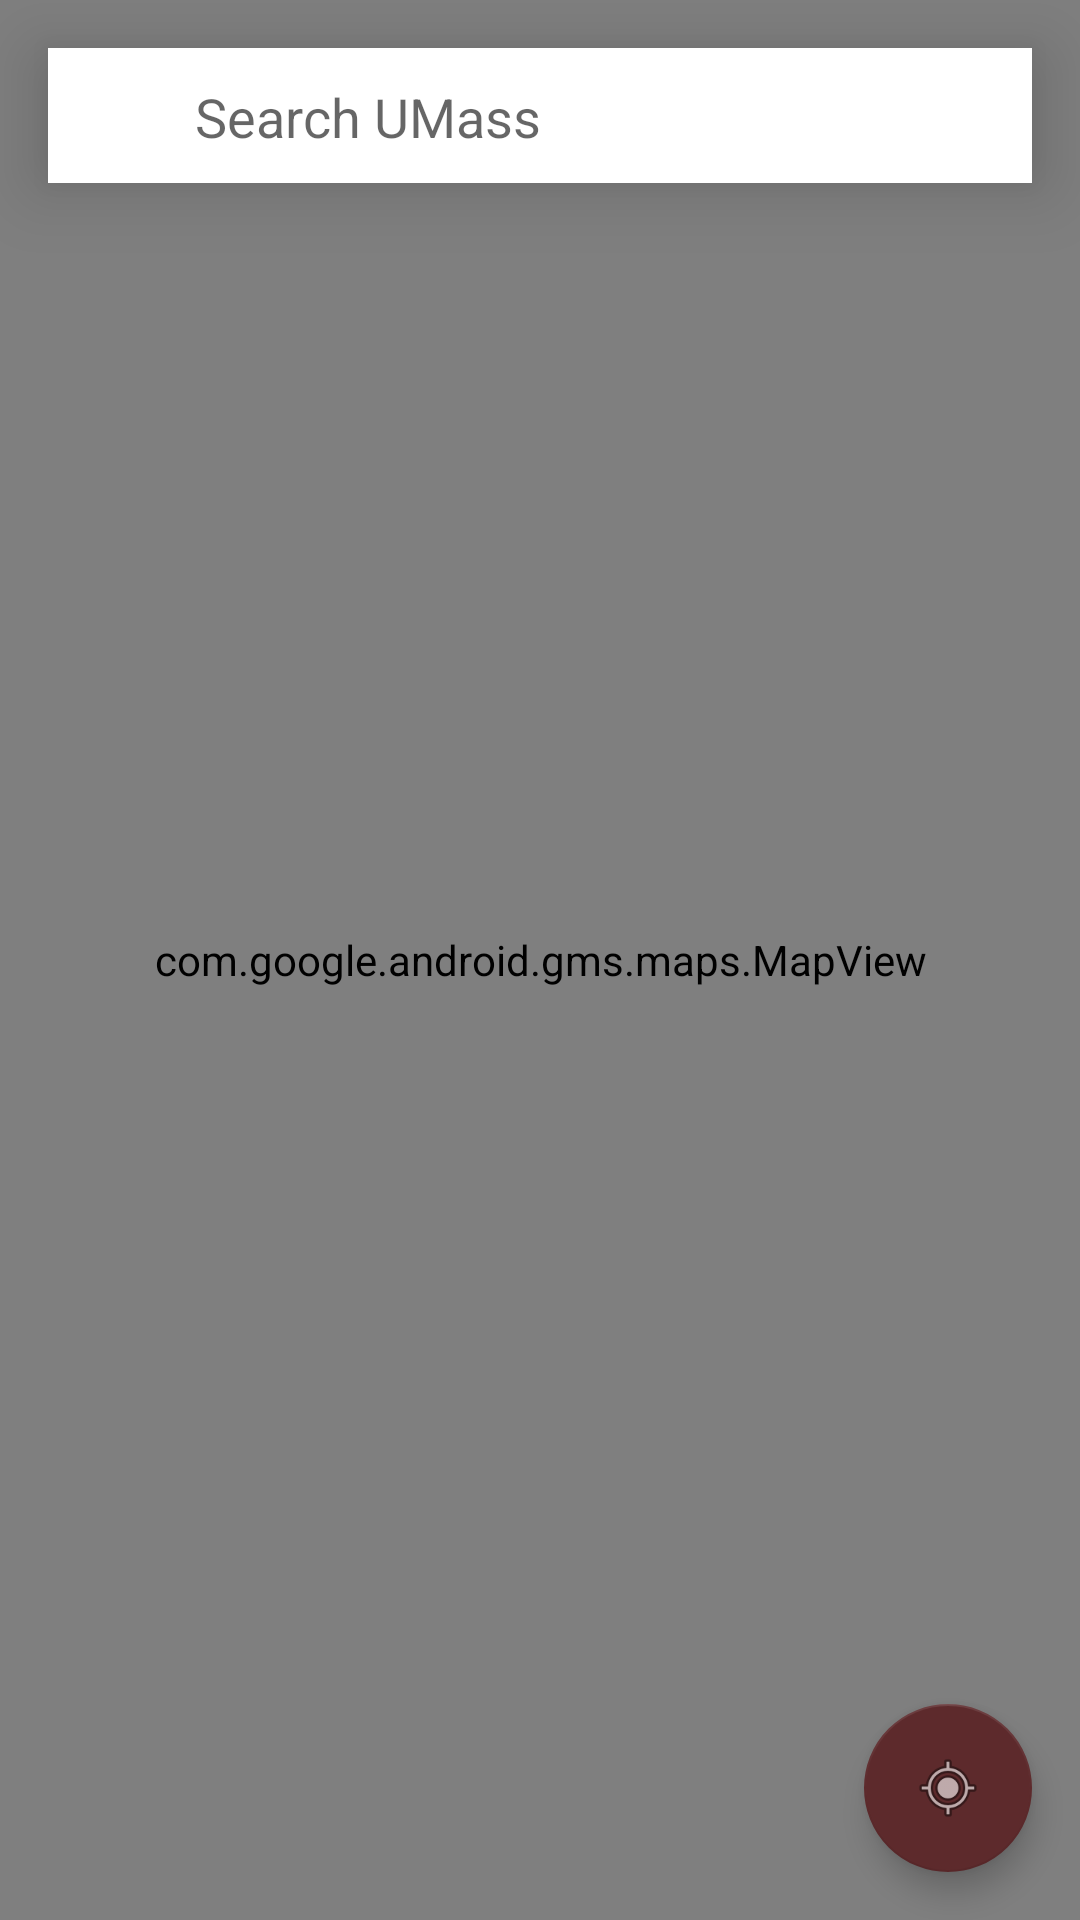

Icons on this 1080px×1920px Android screen, each with its box as [x1,y1,x2,y2]:
mylocation: [864,1704,1032,1872]
